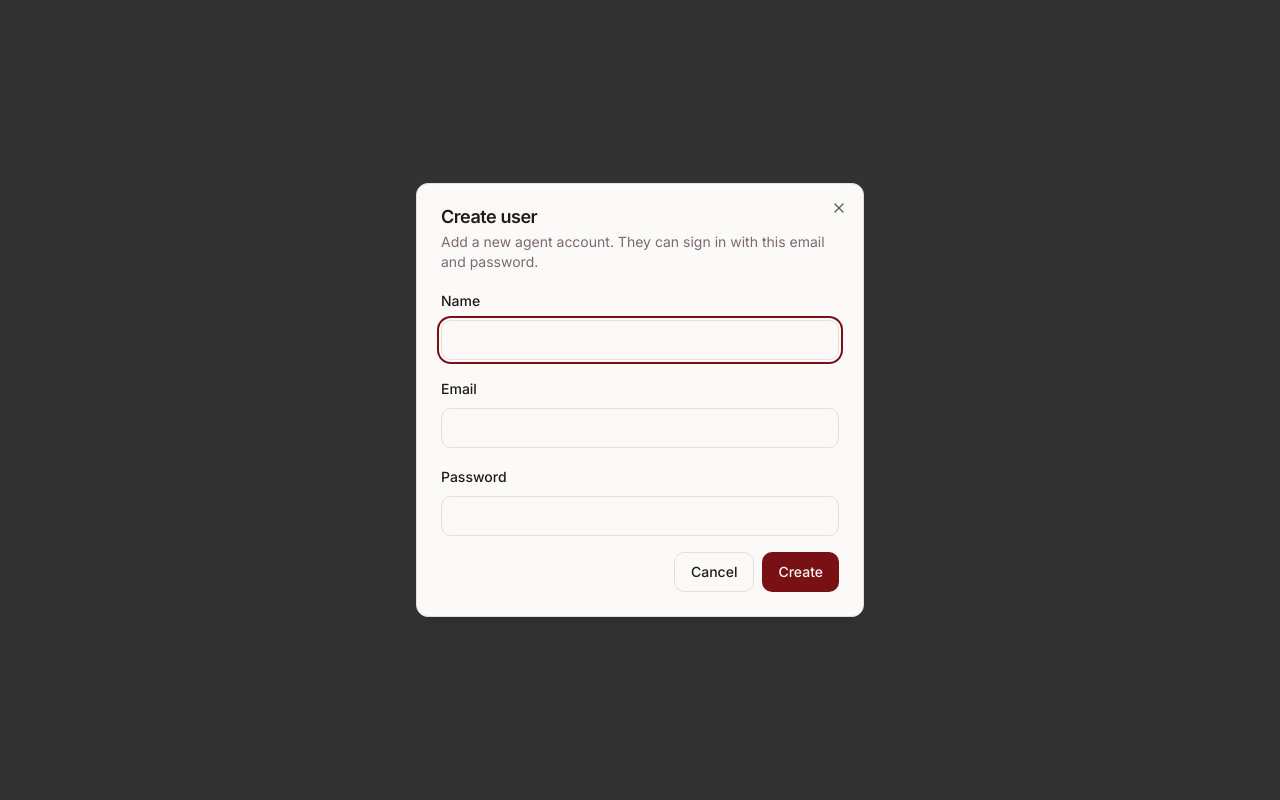
Test: CreateUserDialog › shows Zod validation error when name is too short
Type "ab" into the field labelled "Name". click: (640,340)
box: x1=441 y1=320 x2=839 y2=360
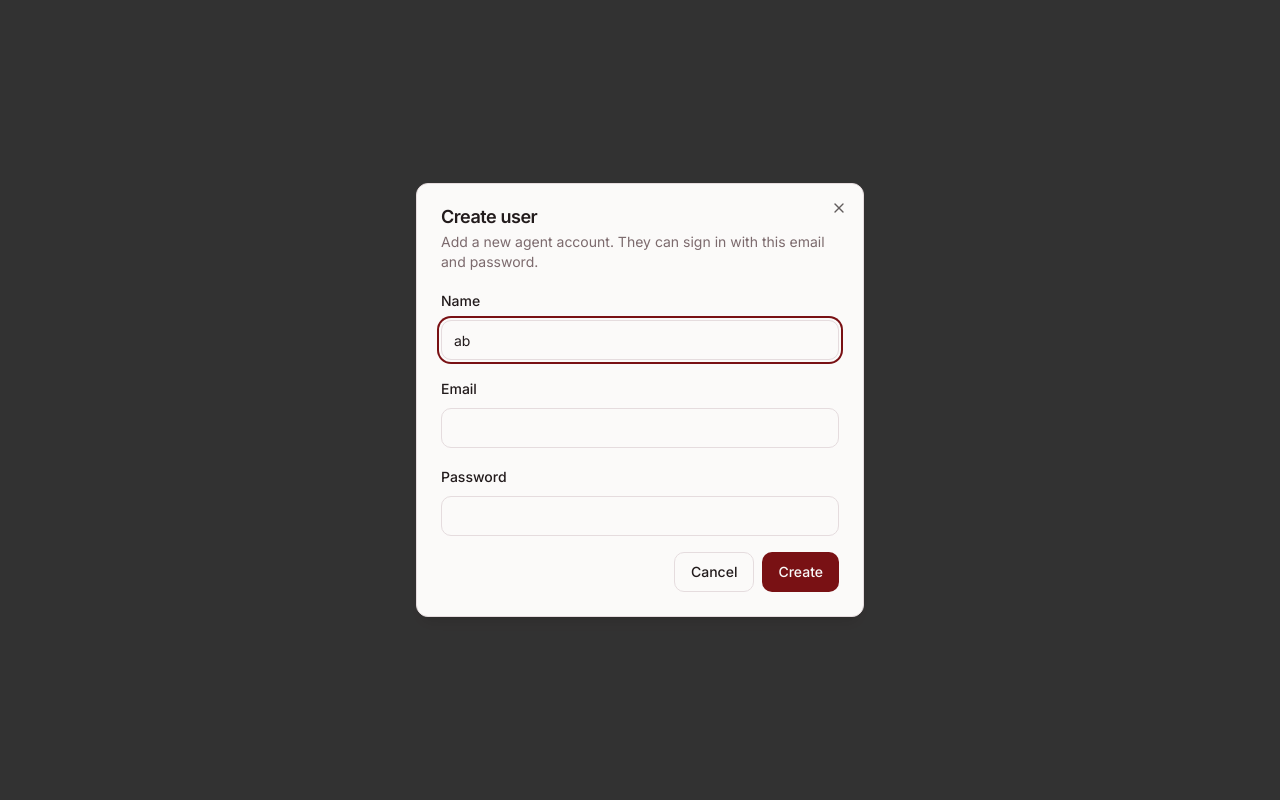
Type "valid@example.com" into the field labelled "Email". click: (640,428)
box: x1=441 y1=408 x2=839 y2=448
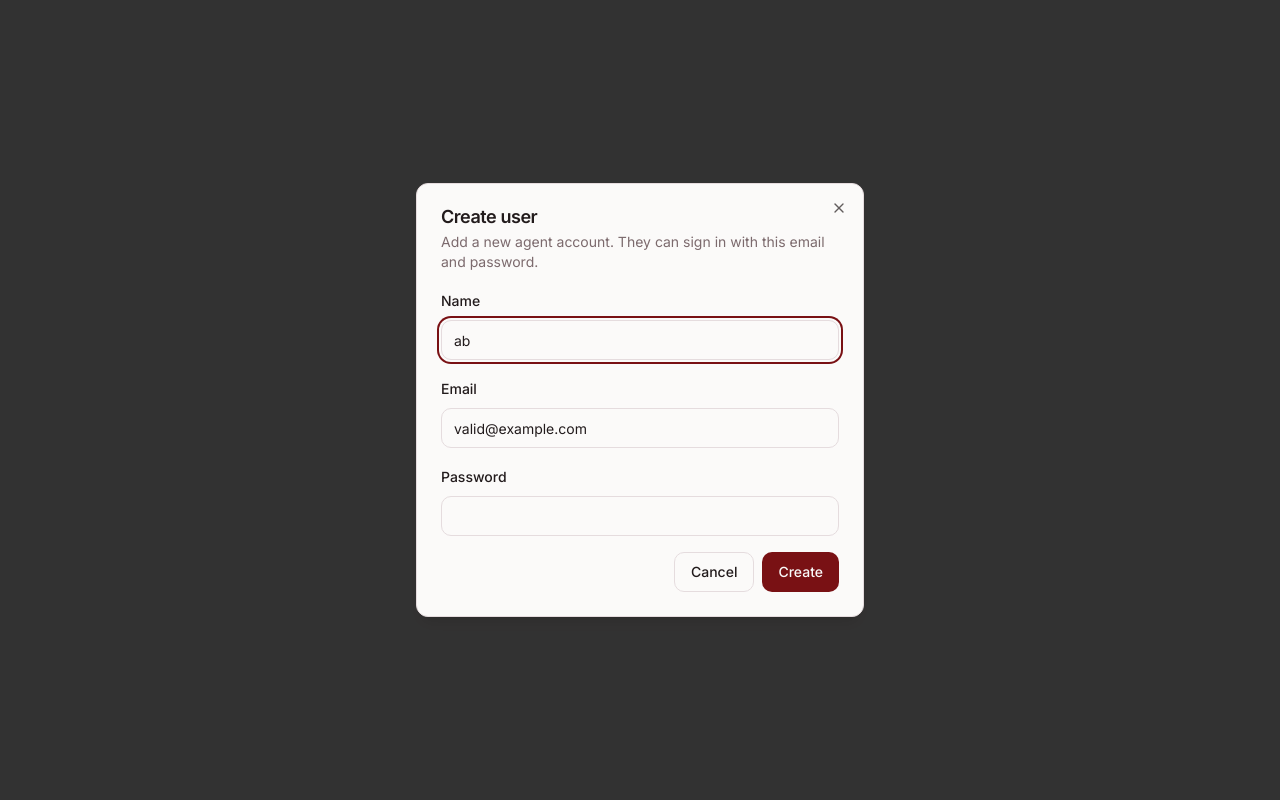
Type "password1" into the password field labelled "Password". click: (640,516)
box: x1=441 y1=496 x2=839 y2=536
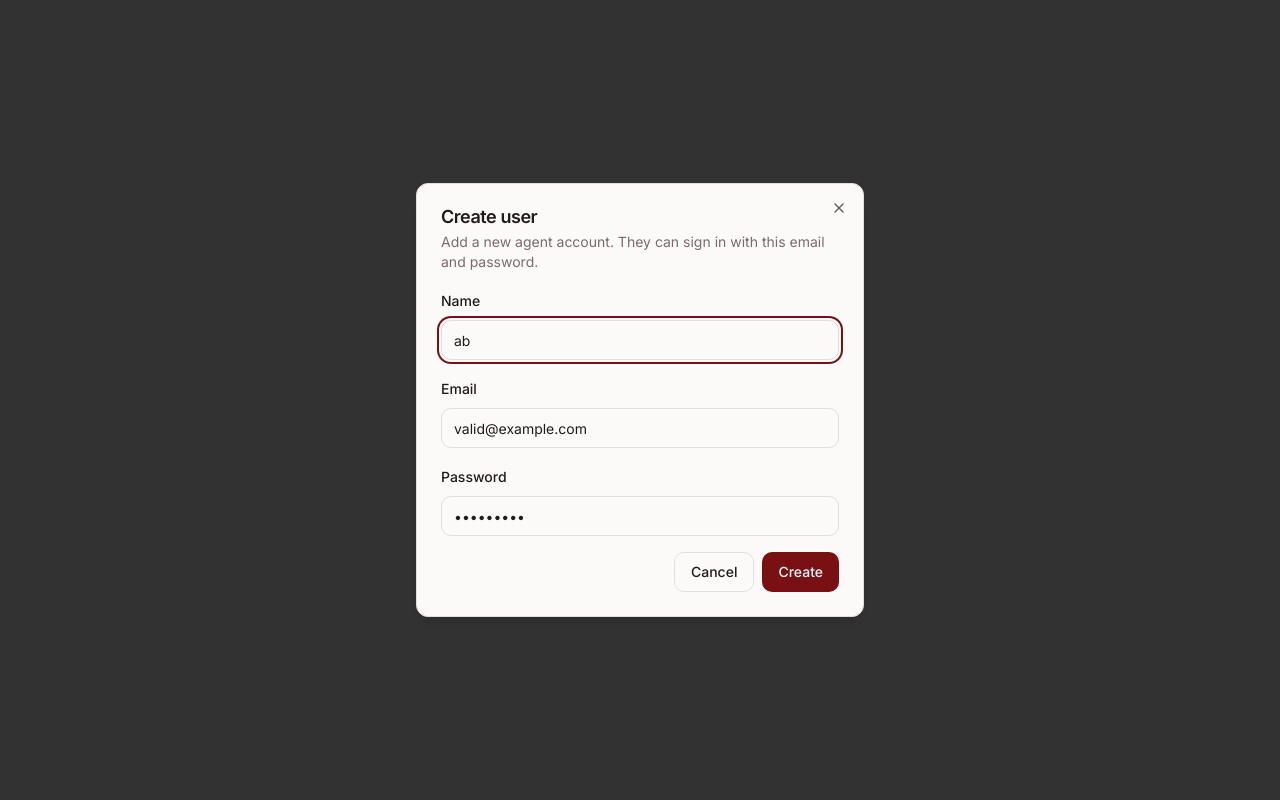
Click the button "Create". click: (801,572)
box: x1=762 y1=552 x2=839 y2=592
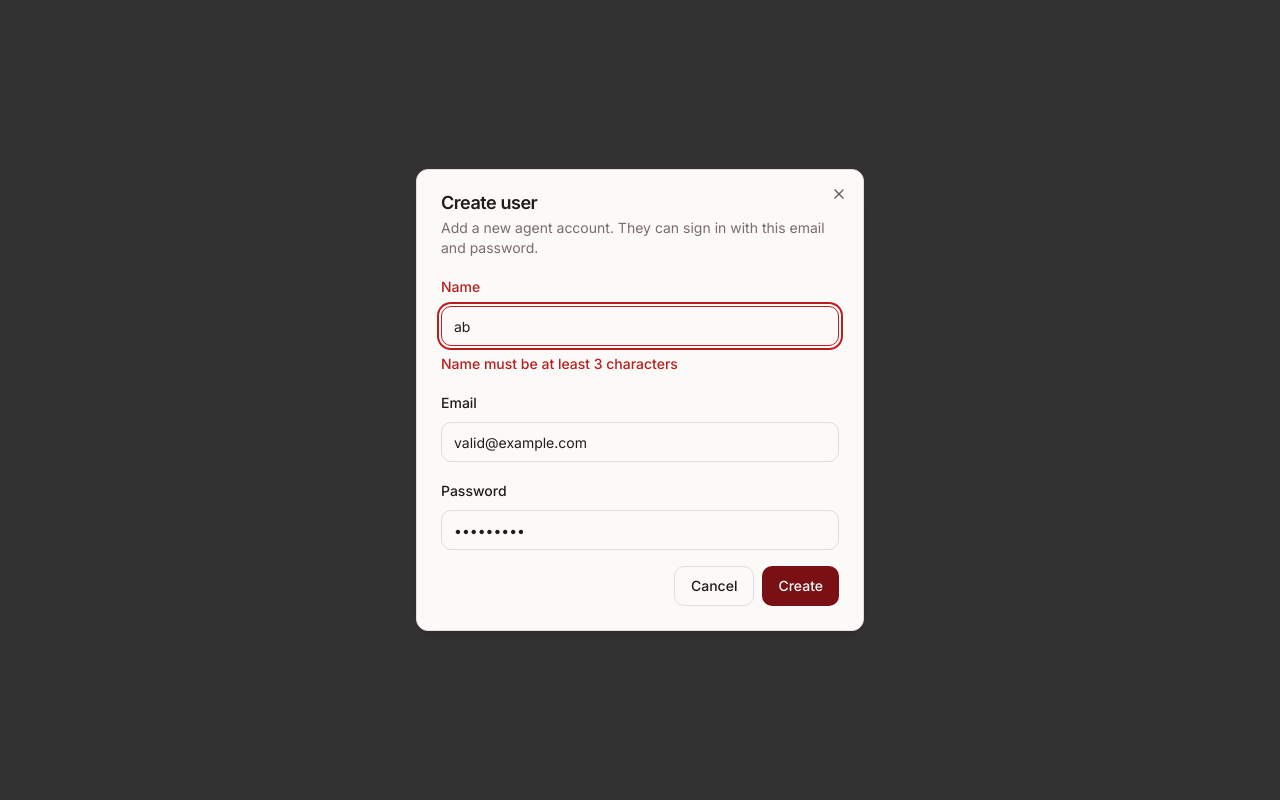
Expected: the text "Name must be at least 3 characters" is shown, x1=441 y1=355 x2=678 y2=372
